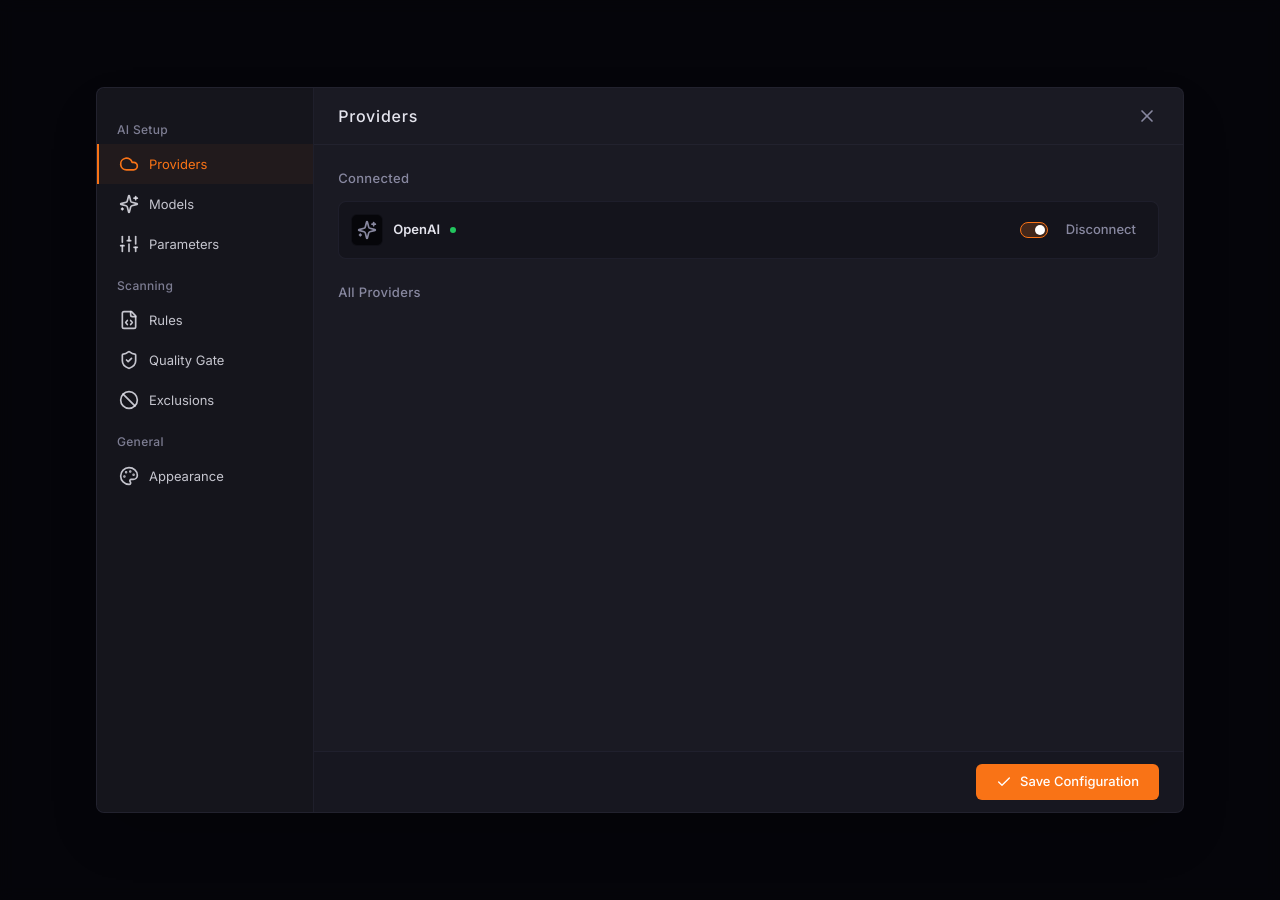
Test: SettingsDrawer › renders agent assignment rows when provider is connected
Click the button "Models". click: coordinates (205, 204)
box: 97,184 -> 313,224
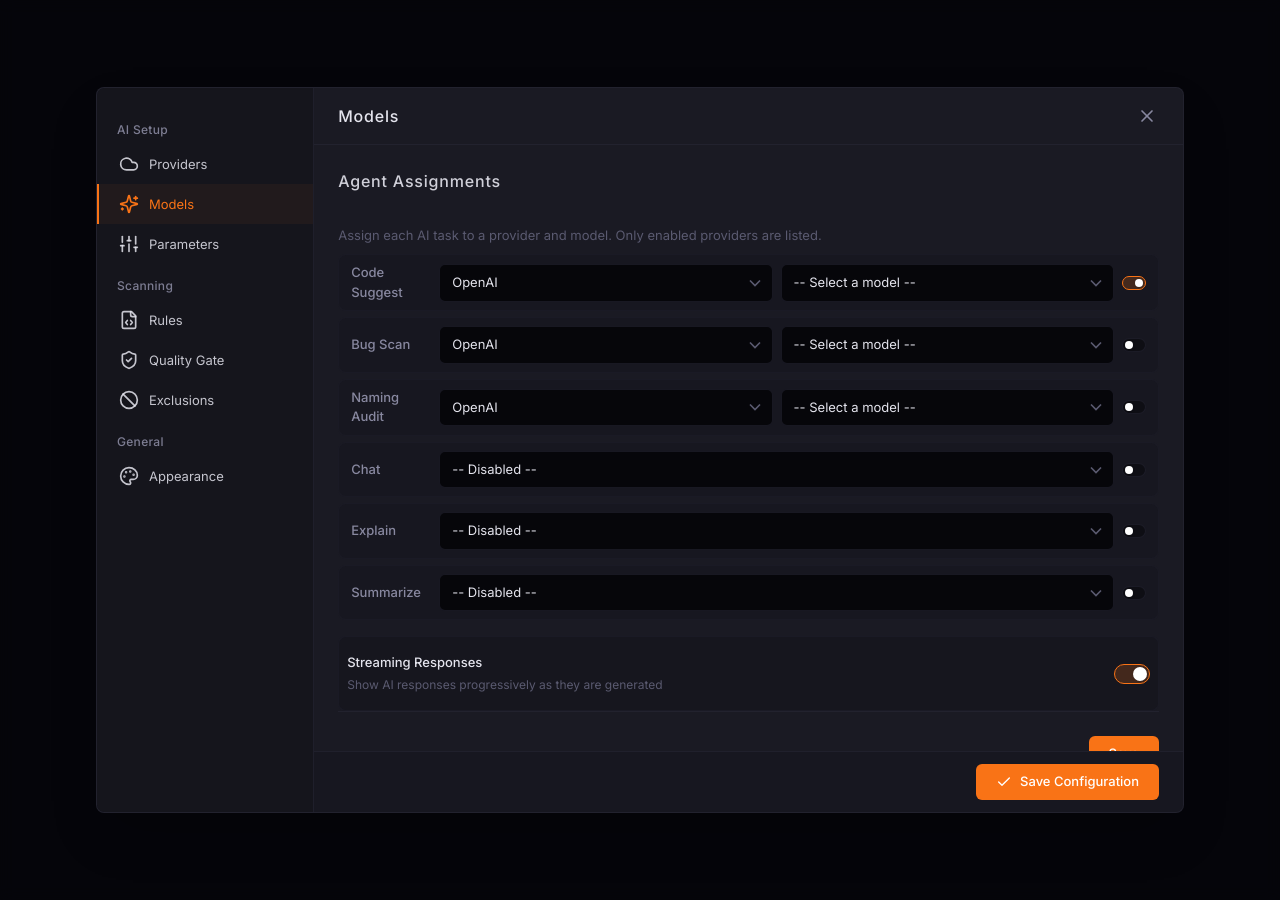
Expected: the text "Code Suggest" is shown, 351,264 -> 403,300
Expected: the text "Bug Scan" is shown, 351,336 -> 410,352
Expected: the text "Naming Audit" is shown, 351,389 -> 399,424
